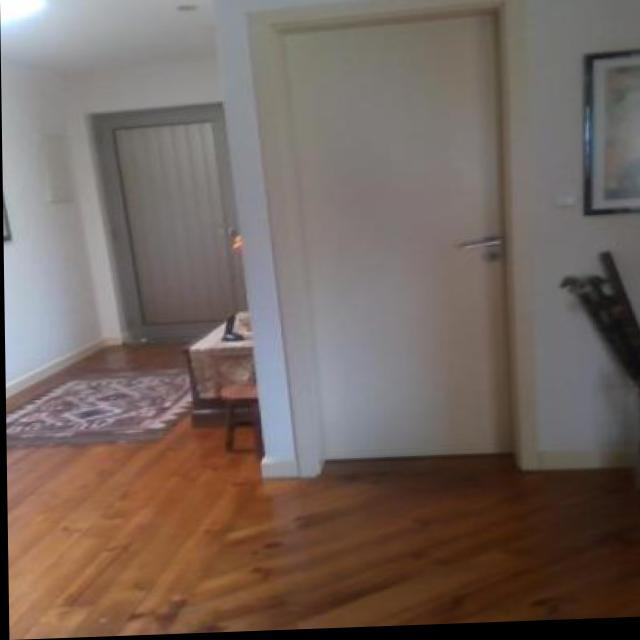door_handle: (453, 224, 506, 265)
